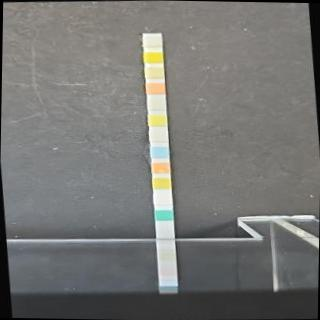mark: (145, 81, 166, 94), (152, 193, 172, 206), (142, 36, 162, 48), (143, 52, 163, 64), (144, 67, 164, 79), (146, 98, 166, 110), (147, 114, 167, 126), (149, 146, 169, 158), (152, 177, 172, 189), (154, 209, 174, 221), (149, 130, 168, 142), (151, 162, 169, 174)
